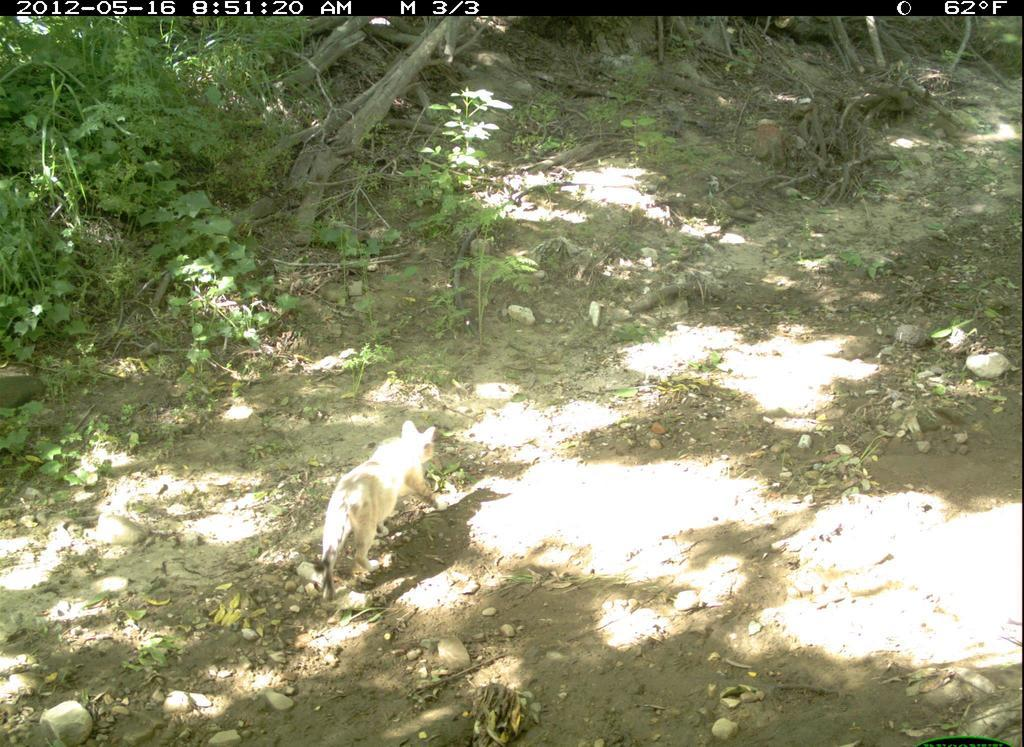cat: (309, 418, 455, 605)
